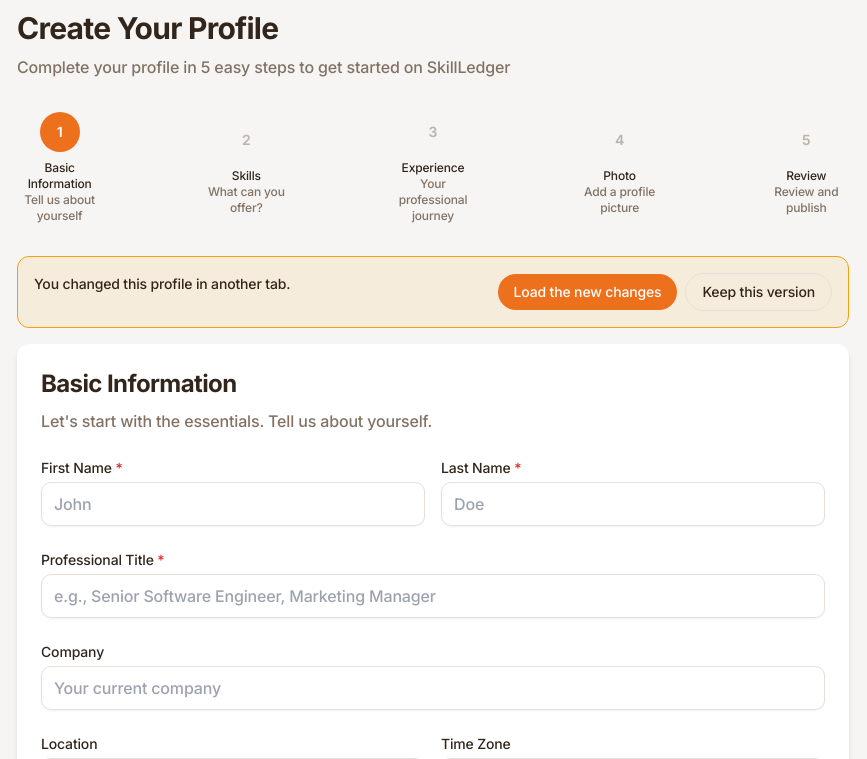
Test: ProfileOnboardingWizard - Integration Tests (Week 6) › Draft Auto-Save with Real Form › "Keep this version" dismisses the conflict notice (BUG-TEST-030)
expect the message is shown: met, box [17,256,849,328]
Step 1. Click the button "Keep this version" → {"x": 759, "y": 292}, box [685,273,832,311]
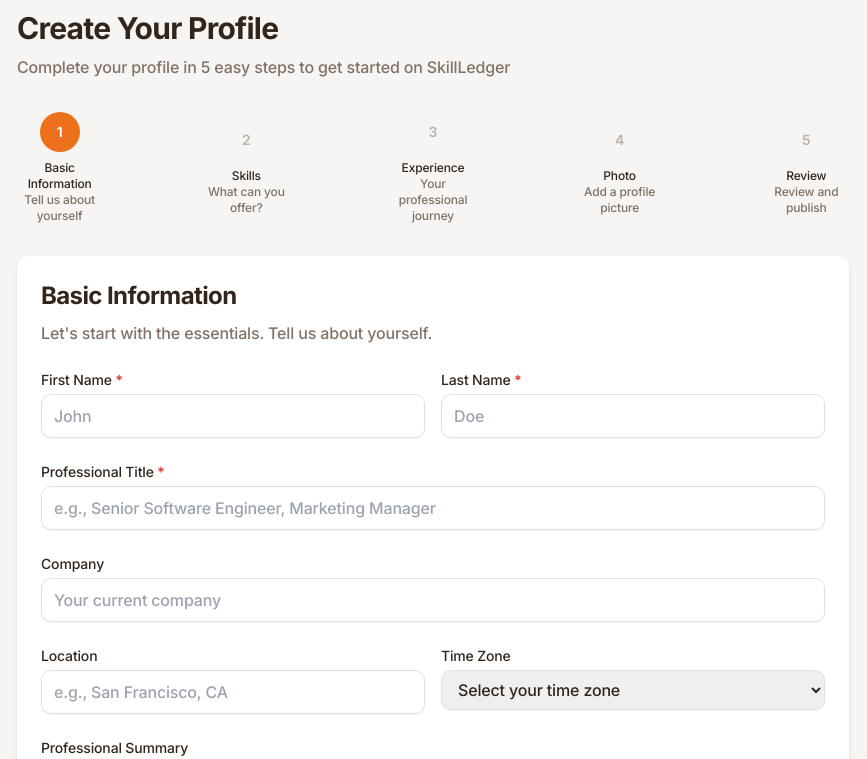
expect the message "You changed this profile in another tab. Load the new changes Keep this version" is gone: met
